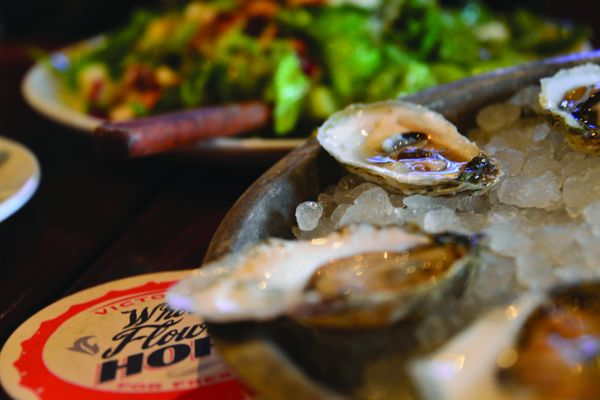soup: (161, 88, 580, 390)
